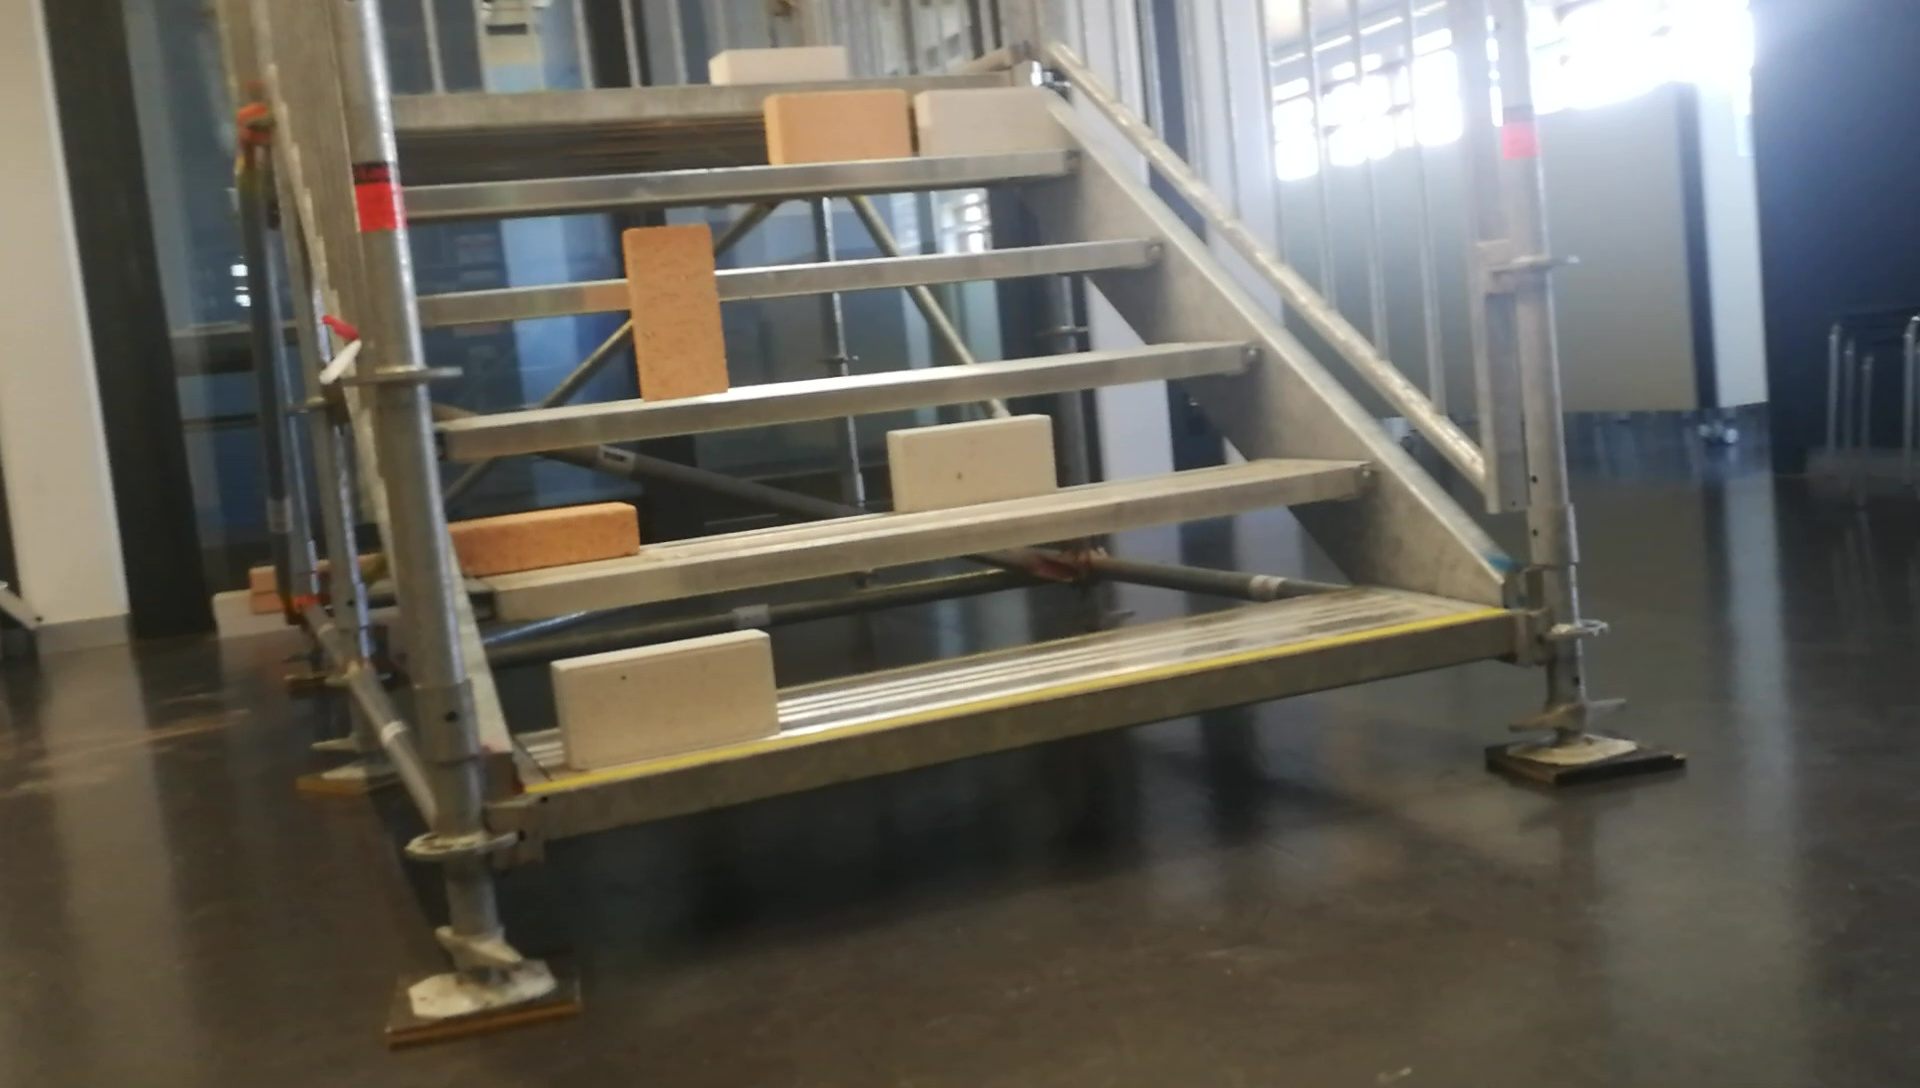brick: (553, 628, 773, 770), (622, 223, 729, 402), (887, 413, 1050, 510), (448, 502, 637, 578), (765, 90, 902, 164), (916, 88, 1046, 160), (711, 50, 847, 83)
edge: (553, 611, 1513, 833), (471, 466, 1365, 613), (439, 340, 1261, 458), (413, 232, 1166, 320), (405, 150, 1080, 208), (390, 73, 1005, 115)
stairs: (377, 3, 1683, 1048)
steps: (380, 44, 1528, 859)
